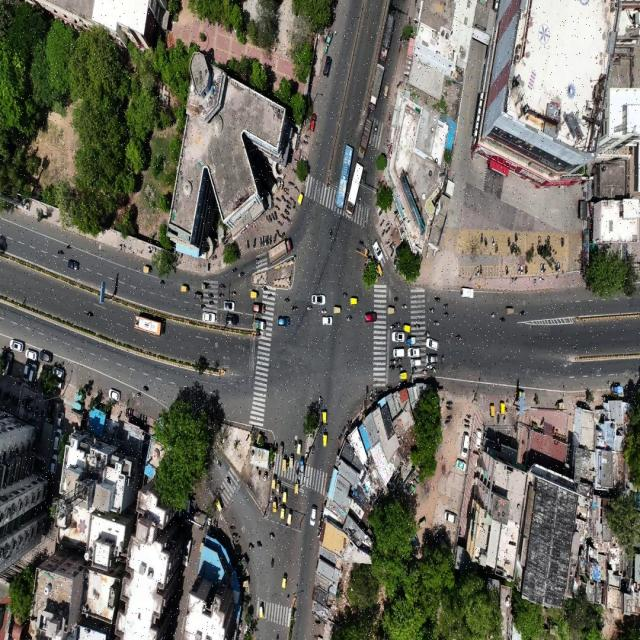3W: (256, 599, 265, 616), (281, 572, 289, 588), (215, 496, 223, 512), (297, 191, 305, 207), (282, 485, 289, 503), (321, 407, 328, 425), (321, 432, 328, 450), (282, 455, 288, 475), (505, 304, 515, 315), (349, 295, 359, 306), (141, 264, 152, 274), (180, 283, 189, 295), (289, 453, 295, 471), (249, 289, 259, 299), (287, 509, 293, 525), (294, 480, 300, 496), (489, 404, 495, 419), (399, 372, 408, 382), (332, 305, 342, 314), (272, 499, 277, 517), (279, 507, 285, 522), (500, 402, 506, 416), (403, 323, 411, 333), (297, 439, 302, 455), (386, 307, 395, 315), (194, 292, 201, 300)
Bus: (329, 134, 352, 210), (131, 308, 166, 339)
Cars: (370, 235, 383, 262), (46, 454, 59, 479), (308, 502, 318, 530), (323, 54, 334, 79), (200, 310, 217, 326), (52, 428, 64, 450), (461, 431, 471, 457), (7, 337, 24, 352), (39, 347, 54, 364), (458, 286, 476, 300), (444, 507, 456, 527), (424, 336, 439, 351), (251, 300, 266, 315), (54, 409, 69, 424), (66, 258, 80, 274), (226, 312, 240, 327), (108, 387, 122, 402), (24, 346, 38, 360), (390, 332, 406, 344), (364, 308, 376, 324), (311, 293, 327, 305), (222, 299, 237, 311), (309, 113, 318, 133), (277, 315, 291, 327), (252, 319, 266, 330), (30, 364, 38, 383), (392, 347, 405, 358), (50, 366, 63, 377), (21, 364, 29, 380), (407, 347, 421, 356), (321, 316, 333, 326), (424, 354, 438, 362), (409, 359, 422, 366)
M2W: (513, 227, 520, 244), (504, 233, 511, 249), (383, 83, 389, 101), (327, 226, 333, 242), (247, 541, 254, 554), (84, 309, 94, 318), (346, 313, 353, 325), (268, 555, 274, 569), (281, 294, 290, 303), (245, 236, 250, 252), (251, 235, 257, 248), (441, 352, 446, 367), (453, 334, 462, 342), (520, 306, 526, 318), (560, 235, 566, 247), (320, 307, 329, 315), (225, 474, 231, 486), (290, 167, 298, 176), (464, 412, 474, 419), (498, 314, 505, 324), (341, 290, 348, 300), (269, 531, 276, 541), (495, 413, 501, 424), (257, 539, 263, 550), (373, 123, 378, 136), (432, 319, 440, 327), (489, 310, 496, 319), (442, 313, 452, 319), (317, 394, 323, 404), (238, 270, 244, 280), (442, 302, 450, 309), (401, 303, 409, 310), (230, 291, 238, 298), (202, 282, 210, 289), (292, 304, 298, 313), (206, 292, 215, 298), (159, 278, 165, 287), (484, 235, 488, 248), (538, 232, 542, 245), (524, 263, 528, 276), (286, 593, 291, 603), (434, 296, 441, 303), (428, 306, 435, 313), (424, 329, 431, 336), (260, 285, 267, 292), (199, 303, 206, 310), (446, 406, 454, 412), (392, 294, 400, 300), (414, 323, 420, 331), (505, 263, 509, 275), (557, 259, 561, 271), (517, 263, 521, 275), (306, 304, 312, 312), (266, 294, 274, 300), (218, 291, 224, 299), (292, 157, 298, 165), (379, 218, 385, 226), (358, 196, 363, 205), (386, 238, 391, 247), (447, 399, 454, 405), (447, 413, 453, 420), (464, 423, 471, 429), (397, 364, 404, 370), (253, 257, 260, 263), (209, 298, 215, 305), (294, 186, 300, 193), (302, 140, 309, 146), (281, 194, 286, 202), (286, 216, 291, 224), (476, 264, 479, 276), (547, 233, 550, 245), (231, 266, 237, 272), (264, 215, 268, 224), (275, 230, 281, 236), (304, 133, 310, 139), (386, 226, 390, 235), (288, 181, 295, 186), (284, 207, 289, 214), (495, 243, 498, 254), (275, 210, 278, 221), (395, 320, 400, 326), (388, 365, 394, 370), (491, 237, 494, 247), (531, 242, 534, 252), (540, 264, 543, 274), (220, 283, 226, 288), (275, 196, 280, 202), (426, 365, 433, 369), (389, 359, 396, 363), (290, 196, 294, 203), (278, 221, 282, 228), (480, 230, 482, 243), (398, 358, 404, 362), (262, 235, 264, 247), (544, 262, 546, 273), (267, 236, 269, 246), (270, 212, 272, 222)
Truck: (346, 162, 377, 222), (376, 10, 399, 64), (266, 238, 298, 268), (368, 63, 386, 111), (358, 113, 376, 161)
